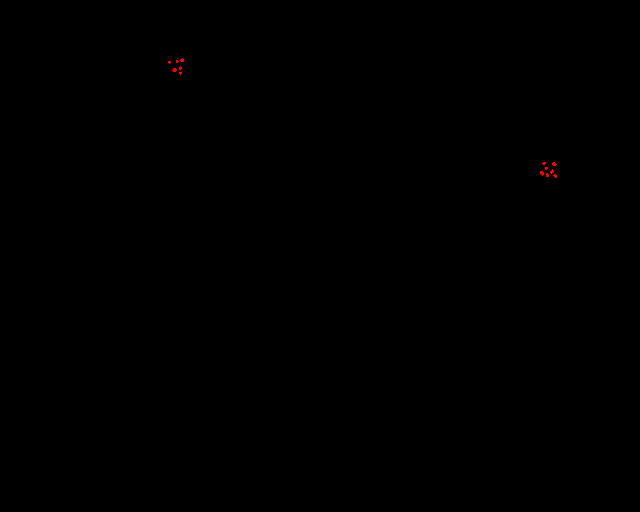Target: (172, 68, 177, 72), (552, 162, 557, 166), (550, 169, 554, 174), (540, 171, 544, 176), (180, 58, 184, 62), (553, 174, 557, 178), (179, 66, 182, 70), (542, 162, 546, 165), (546, 173, 549, 177), (176, 60, 179, 63), (168, 61, 171, 64), (179, 72, 182, 75), (545, 167, 548, 170)
